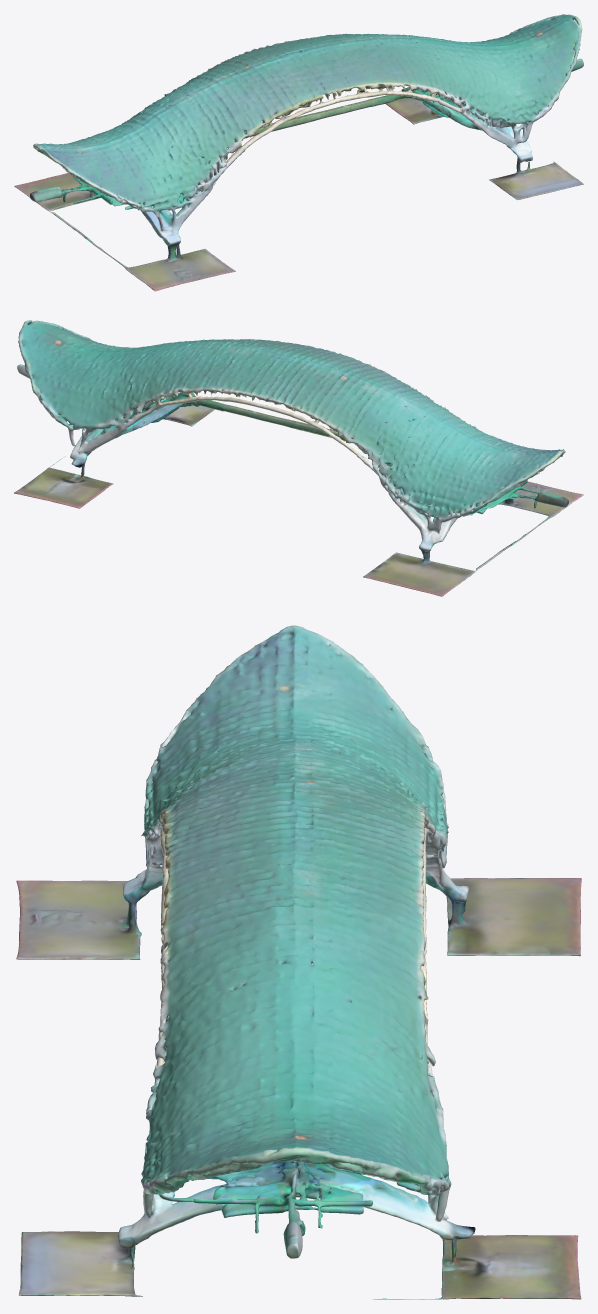
File: bridge.glb
3 renders of one model, top to bottom at view 1: azimuth 30°, elevation 25°; view 2: azimuth 150°, elevation 25°; view 3: azimuth 270°, elevation 25°, orthographic. The views are drawn at different scales.
Size of the model in its own units: 1.97 by 0.472 by 0.8774.
Materials: 1 (1 with a texture image).
